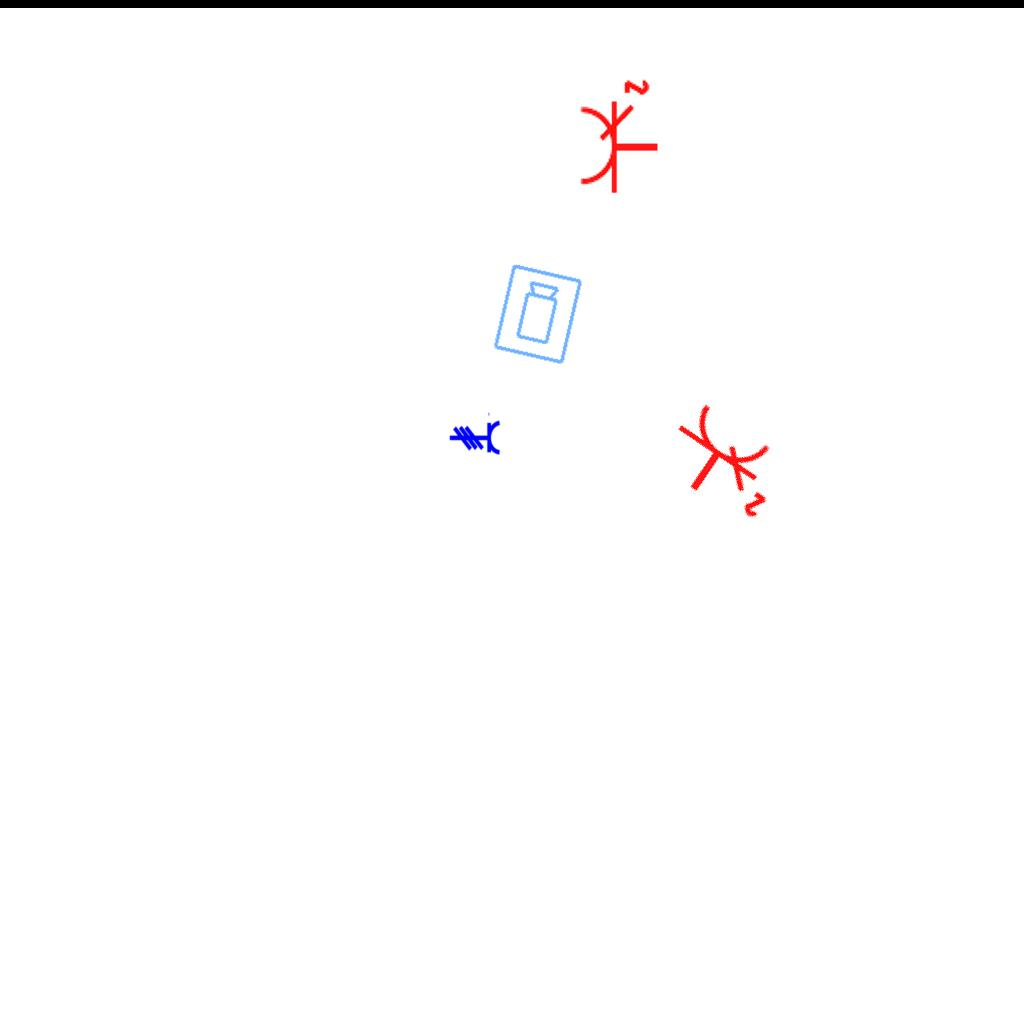CEE_Drehstrom_Steckdose_16_32_A: (449, 411, 501, 456)
KFO_Kamera_mit_Festobjektiv: (490, 261, 587, 368)
Schukosteckdose_mehrfach: (647, 392, 798, 534), (576, 77, 664, 198)
